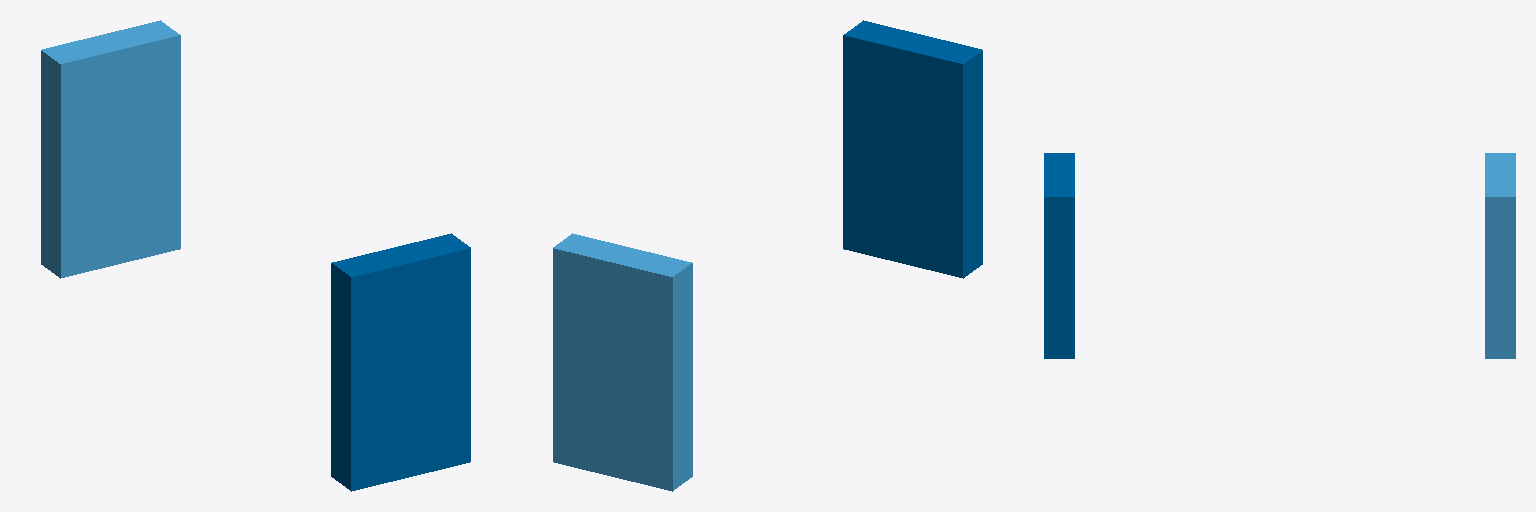
The robot description file, URDF, robot "robotiq_2f-85":
<?xml version="1.0" ?>
<!-- =================================================================================== -->
<!-- |    This document was autogenerated by xacro from robotiq_arg2f_85_model.xacro   | -->
<!-- |    EDITING THIS FILE BY HAND IS NOT RECOMMENDED                                 | -->
<!-- =================================================================================== -->
<robot name="robotiq_2f-85">
  <link name="robotiq_arg2f_base_link">
    <inertial>
      <origin rpy="0 0 0" xyz="8.625E-08 -4.6583E-06 0.03145"/>
      <mass value="1.0"/>
      <inertia ixx="0.00020005" ixy="-4.2442E-10" ixz="-2.9069E-10" iyy="0.00017832" iyz="-3.4402E-08" izz="0.00013478"/>
    </inertial>
    <visual>
      <origin rpy="0 0 0" xyz="0 0 0"/>
      <geometry>
        <mesh filename="visual/robotiq_arg2f_85_base_link.dae" scale="0.001 0.001 0.001"/>
      </geometry>
      <material name="LightGrey">
        <color rgba="0.7 0.7 0.7 1.0"/>
      </material>
    </visual>
    <!-- <collision>
      <origin rpy="0 0 0" xyz="0 0 0"/>
      <geometry>
        <mesh filename="collision/robotiq_arg2f_base_link.stl"/>
      </geometry>
    </collision> -->
  </link>
  <joint name="finger_joint" type="revolute">
    <origin rpy="0 0 3.14159265359" xyz="0 -0.0306011 0.054904"/>
    <parent link="robotiq_arg2f_base_link"/>
    <child link="left_outer_knuckle"/>
    <axis xyz="1 0 0"/>
    <limit effort="1000" lower="0" upper="0.8" velocity="2.0"/>
  </joint>
  <link name="left_outer_knuckle">
    <inertial>
        <origin xyz="-0.000200000000003065 0.0199435877845359 0.0292245259211331" rpy="0 0 0" />
        <mass value="0.00853198276973456" />
        <inertia ixx="2.89328108496468E-06" ixy="-1.57935047237397E-19" ixz="-1.93980378593255E-19" iyy="1.86719750325683E-06" iyz="-1.21858577871576E-06" izz="1.21905238907251E-06" />
        </inertial>
    <visual>
      <origin rpy="0 0 0" xyz="0 0 0"/>
      <geometry>
        <mesh filename="visual/robotiq_arg2f_85_outer_knuckle.dae" scale="0.001 0.001 0.001"/>
      </geometry>
      <material name="">
        <color rgba="1 1 0 1"/>
      </material>
    </visual>
    <!-- <collision>
      <origin rpy="0 0 0" xyz="0 0 0"/>
      <geometry>
        <mesh filename="collision/robotiq_arg2f_85_outer_knuckle.dae" scale="0.001 0.001 0.001"/>
      </geometry>
    </collision> -->
  </link>
  <joint name="left_outer_finger_joint" type="fixed">
    <origin rpy="0 0 0" xyz="0 0.0315 -0.0041"/>
    <parent link="left_outer_knuckle"/>
    <child link="left_outer_finger"/>
    <axis xyz="1 0 0"/>
  </joint>
  <link name="left_outer_finger">
    <inertial>
        <origin xyz="0.00030115855001899 0.0373907951953854 -0.0208027427000385" rpy="0 0 0" />
        <mass value="0.022614240507152" />
        <inertia ixx="1.52518312458174E-05" ixy="9.76583423954399E-10" ixz="-5.43838577022588E-10" iyy="6.17694243867776E-06" iyz="6.78636130740228E-06" izz="1.16494917907219E-05" />
        </inertial>
    <visual>
      <origin rpy="0 0 0" xyz="0 0 0"/>
      <geometry>
        <mesh filename="visual/robotiq_arg2f_85_outer_finger.dae" scale="0.001 0.001 0.001"/>
      </geometry>
      <material name="LightGrey">
        <color rgba="0 1 1 1.0"/>
      </material>
    </visual>
    <!-- <collision>
      <origin rpy="0 0 0" xyz="0 0 0"/>
      <geometry>
        <mesh filename="collision/robotiq_arg2f_85_outer_finger.dae" scale="0.001 0.001 0.001"/>
      </geometry>
    </collision> -->
  </link>
  <joint name="left_inner_finger_joint" type="revolute">
    <origin rpy="0 0 0" xyz="0 0.0061 0.0471"/>
    <parent link="left_outer_finger"/>
    <child link="left_inner_finger"/>
    <axis xyz="1 0 0"/>
    <limit effort="1000" lower="-0.8757" upper="0" velocity="2.0"/>
  </joint>
  <link name="left_inner_finger">
    <inertial>
        <origin xyz="0.000299999999999317 0.0160078233491243 -0.0136945669206257" rpy="0 0 0" />
        <mass value="0.0104003125914103" />
        <inertia ixx="2.71909453810972E-06" ixy="1.35402465472579E-21" ixz="-7.1817349065269E-22" iyy="7.69100314106116E-07" iyz="6.74715432769696E-07" izz="2.30315190420171E-06" />
        </inertial>
    <visual>
      <origin rpy="0 0 0" xyz="0 0 0"/>
      <geometry>
        <mesh filename="visual/robotiq_arg2f_85_inner_finger.dae" scale="0.001 0.001 0.001"/>
      </geometry>
      <material name="LightGrey">
        <color rgba="1 0 1 1.0"/>
      </material>
    </visual>
    <!-- <collision>
      <origin rpy="0 0 0" xyz="0 0 0"/>
      <geometry>
        <mesh filename="collision/robotiq_arg2f_85_inner_finger.dae" scale="0.001 0.001 0.001"/>
      </geometry>
    </collision> -->
  </link>
  <joint name="left_inner_finger_pad_joint" type="fixed">
    <origin rpy="0 0 0" xyz="0 -0.0220203446692936 0.03242"/>
    <parent link="left_inner_finger"/>
    <child link="left_inner_finger_pad"/>
    <axis xyz="0 0 1"/>
  </joint>
  <link name="left_inner_finger_pad">
    <inertial>
      <mass value="0.01"/>
      <inertia ixx="1E-10" ixy="1E-10" ixz="1E-10" iyy="1E-10" iyz="1E-10" izz="1E-10"/>
    </inertial>
    <visual>
      <origin rpy="0 0 0" xyz="0 0 0"/>
      <geometry>
        <box size="0.022 0.00635 0.0375"/>
      </geometry>
 
    </visual>
    <!-- <collision>
      <origin rpy="0 0 0" xyz="0 0 0"/>
      <geometry>
        <box size="0.022 0.00635 0.0375"/>
      </geometry>
      <material name="">
        <color rgba="0.9 0.0 0.0 1"/>
      </material>
    </collision> -->
  </link>
  <joint name="left_inner_knuckle_joint" type="revolute">
    <!-- <origin xyz="0 ${reflect * -0.0127} 0.06142" rpy="${pi / 2 + .725} 0 ${(reflect - 1) * pi / 2}" /> -->
    <origin rpy="0 0 3.14159265359" xyz="0 -0.0127 0.06142"/>
    <parent link="robotiq_arg2f_base_link"/>
    <child link="left_inner_knuckle"/>
    <axis xyz="1 0 0"/>
    <limit effort="1000" lower="0" upper="0.8757" velocity="2.0"/>
  </joint>
  <link name="left_inner_knuckle">
    <inertial>
        <origin xyz="0.000123011831763771 0.0507850843201817 0.00103968640075166" rpy="0 0 0" />
       <mass value="0.0271177346495152" />
        <inertia ixx="2.61910379223783E-05" ixy="-2.43616858946494E-07" ixz="-6.37789906117123E-09" iyy="2.8270243746167E-06" iyz="-5.37200748039765E-07" izz="2.83695868220296E-05" />
        </inertial>
    <visual>
      <origin rpy="0 0 0" xyz="0 0 0"/>
      <geometry>
        <mesh filename="visual/robotiq_arg2f_85_inner_knuckle.dae" scale="0.001 0.001 0.001"/>
      </geometry>
      <material name="LightGrey">
        <color rgba="0 0 1 1.0"/>
      </material>
    </visual>
    <!-- <collision>
      <origin rpy="0 0 0" xyz="0 0 0"/>
      <geometry>
        <mesh filename="collision/robotiq_arg2f_85_inner_knuckle.dae" scale="0.001 0.001 0.001"/>
      </geometry>
    </collision> -->
  </link>
  <joint name="right_outer_knuckle_joint" type="revolute">
    <origin rpy="0 0 0" xyz="0 0.0306011 0.054904"/>
    <parent link="robotiq_arg2f_base_link"/>
    <child link="right_outer_knuckle"/>
    <axis xyz="1 0 0"/>
    <limit effort="1000" lower="0" upper="0.81" velocity="2.0"/>
  </joint>
  <link name="right_outer_knuckle">
    <inertial>
        <origin xyz="-0.000200000000003065 0.0199435877845359 0.0292245259211331" rpy="0 0 0" />
        <mass value="0.00853198276973456" />
        <inertia ixx="2.89328108496468E-06" ixy="-1.57935047237397E-19" ixz="-1.93980378593255E-19" iyy="1.86719750325683E-06" iyz="-1.21858577871576E-06" izz="1.21905238907251E-06" />
        </inertial>
    <visual>
      <origin rpy="0 0 0" xyz="0 0 0"/>
      <geometry>
        <mesh filename="visual/robotiq_arg2f_85_outer_knuckle.dae" scale="0.001 0.001 0.001"/>
      </geometry>
      <material name="">
        <color rgba="0.792156862745098 0.819607843137255 0.933333333333333 1"/>
      </material>
    </visual>
    <!-- <collision>
      <origin rpy="0 0 0" xyz="0 0 0"/>
      <geometry>
        <mesh filename="collision/robotiq_arg2f_85_outer_knuckle.dae" scale="0.001 0.001 0.001"/>
      </geometry>
    </collision> -->
  </link>
  <joint name="right_outer_finger_joint" type="fixed">
    <origin rpy="0 0 0" xyz="0 0.0315 -0.0041"/>
    <parent link="right_outer_knuckle"/>
    <child link="right_outer_finger"/>
    <axis xyz="1 0 0"/>
  </joint>
  <link name="right_outer_finger">
    <inertial>
        <origin xyz="0.00030115855001899 0.0373907951953854 -0.0208027427000385" rpy="0 0 0" />
        <mass value="0.022614240507152" />
        <inertia ixx="1.52518312458174E-05" ixy="9.76583423954399E-10" ixz="-5.43838577022588E-10" iyy="6.17694243867776E-06" iyz="6.78636130740228E-06" izz="1.16494917907219E-05" />
        </inertial>
    <visual>
      <origin rpy="0 0 0" xyz="0 0 0"/>
      <geometry>
        <mesh filename="visual/robotiq_arg2f_85_outer_finger.dae" scale="0.001 0.001 0.001"/>
      </geometry>
      <material name="LightGrey">
        <color rgba="0.7 0.7 0.7 1.0"/>
      </material>
    </visual>
    <!-- <collision>
      <origin rpy="0 0 0" xyz="0 0 0"/>
      <geometry>
        <mesh filename="collision/robotiq_arg2f_85_outer_finger.dae" scale="0.001 0.001 0.001"/>
      </geometry>
    </collision> -->
  </link>
  <joint name="right_inner_finger_joint" type="revolute">
    <origin rpy="0 0 0" xyz="0 0.0061 0.0471"/>
    <parent link="right_outer_finger"/>
    <child link="right_inner_finger"/>
    <axis xyz="1 0 0"/>
    <limit effort="1000" lower="-0.8757" upper="0" velocity="2.0"/>
  </joint>
  <link name="right_inner_finger">
    <inertial>
        <origin xyz="0.000299999999999317 0.0160078233491243 -0.0136945669206257" rpy="0 0 0" />
        <mass value="0.0104003125914103" />
        <inertia ixx="2.71909453810972E-06" ixy="1.35402465472579E-21" ixz="-7.1817349065269E-22" iyy="7.69100314106116E-07" iyz="6.74715432769696E-07" izz="2.30315190420171E-06" />
        </inertial>
    <visual>
      <origin rpy="0 0 0" xyz="0 0 0"/>
      <geometry>
        <mesh filename="visual/robotiq_arg2f_85_inner_finger.dae" scale="0.001 0.001 0.001"/>
      </geometry>
      <material name="">
        <color rgba="0.1 0.1 0.1 1"/>
      </material>
    </visual>
    <!-- <collision>
      <origin rpy="0 0 0" xyz="0 0 0"/>
      <geometry>
        <mesh filename="collision/robotiq_arg2f_85_inner_finger.dae" scale="0.001 0.001 0.001"/>
      </geometry>
    </collision> -->
  </link>
  <joint name="right_inner_finger_pad_joint" type="fixed">
    <origin rpy="0 0 0" xyz="0 -0.0220203446692936 0.03242"/>
    <parent link="right_inner_finger"/>
    <child link="right_inner_finger_pad"/>
    <axis xyz="0 0 1"/>
  </joint>
  <link name="right_inner_finger_pad">
    <inertial>
      <mass value="0.01"/>
      <inertia ixx="1E-10" ixy="1E-10" ixz="1E-10" iyy="1E-10" iyz="1E-10" izz="1E-10"/>
    </inertial>
    <visual>
      <origin rpy="0 0 0" xyz="0 0 0"/>
      <geometry>
        <box size="0.022 0.00635 0.0375"/>
      </geometry>

    </visual>
    <!-- <collision>
      <origin rpy="0 0 0" xyz="0 0 0"/>
      <geometry>
        <box size="0.022 0.00635 0.0375"/>
      </geometry>
      <material name="LightGrey">
        <color rgba="0.7 0.7 0.7 1.0"/>
      </material>
    </collision> -->
  </link>
  <joint name="right_inner_knuckle_joint" type="revolute">
    <!-- <origin xyz="0 ${reflect * -0.0127} 0.06142" rpy="${pi / 2 + .725} 0 ${(reflect - 1) * pi / 2}" /> -->
    <origin rpy="0 0 0.0" xyz="0 0.0127 0.06142"/>
    <parent link="robotiq_arg2f_base_link"/>
    <child link="right_inner_knuckle"/>
    <axis xyz="1 0 0"/>
    <limit effort="1000" lower="0" upper="0.8757" velocity="2.0"/>
  </joint>
  <link name="right_inner_knuckle">
    <inertial>
        <origin xyz="0.000123011831763771 0.0507850843201817 0.00103968640075166" rpy="0 0 0" />
       <mass value="0.0271177346495152" />
        <inertia ixx="2.61910379223783E-05" ixy="-2.43616858946494E-07" ixz="-6.37789906117123E-09" iyy="2.8270243746167E-06" iyz="-5.37200748039765E-07" izz="2.83695868220296E-05" />
        </inertial>
    <visual>
      <origin rpy="0 0 0" xyz="0 0 0"/>
      <geometry>
        <mesh filename="visual/robotiq_arg2f_85_inner_knuckle.dae" scale="0.001 0.001 0.001"/>
      </geometry>
      <material name="LightGrey">
        <color rgba="0.7 0.7 0.7 1.0"/>
      </material>
    </visual>
    <!-- <collision>
      <origin rpy="0 0 0" xyz="0 0 0"/>
      <geometry>
        <mesh filename="collision/robotiq_arg2f_85_inner_knuckle.dae" scale="0.001 0.001 0.001"/>
      </geometry>
    </collision> -->
  </link>
</robot>

--- What the picture shows (computed from the rendered views, not written in the file) ---
Views: 3 orthographic renders of the robot side by side, from view 1: azimuth 30°, elevation 25°; view 2: azimuth 150°, elevation 25°; view 3: azimuth 270°, elevation 25°.
Model robotiq_2f-85 with 11 links and 10 joints (6 revolute, 4 fixed), rooted at robotiq_arg2f_base_link, posed all joints at 0.
Links seen in each view (by area): view 1: left_inner_finger_pad, right_inner_finger_pad; view 2: left_inner_finger_pad, right_inner_finger_pad; view 3: left_inner_finger_pad, right_inner_finger_pad.
Boxes of the visible links, <box> form: left_inner_finger_pad: <box>331,233,470,491</box>; right_inner_finger_pad: <box>41,20,180,278</box>; left_inner_finger_pad: <box>843,20,982,278</box>; right_inner_finger_pad: <box>553,233,692,491</box>; left_inner_finger_pad: <box>1044,153,1074,358</box>; right_inner_finger_pad: <box>1485,153,1515,358</box>.
Size in the robot's own frame: 0.022 by 0.0987 by 0.0375 metres.
Meshes: 5 distinct files referenced, 0 mesh visuals loaded (none loaded); not drawn: 9 (reference not matched to a file when rendering).